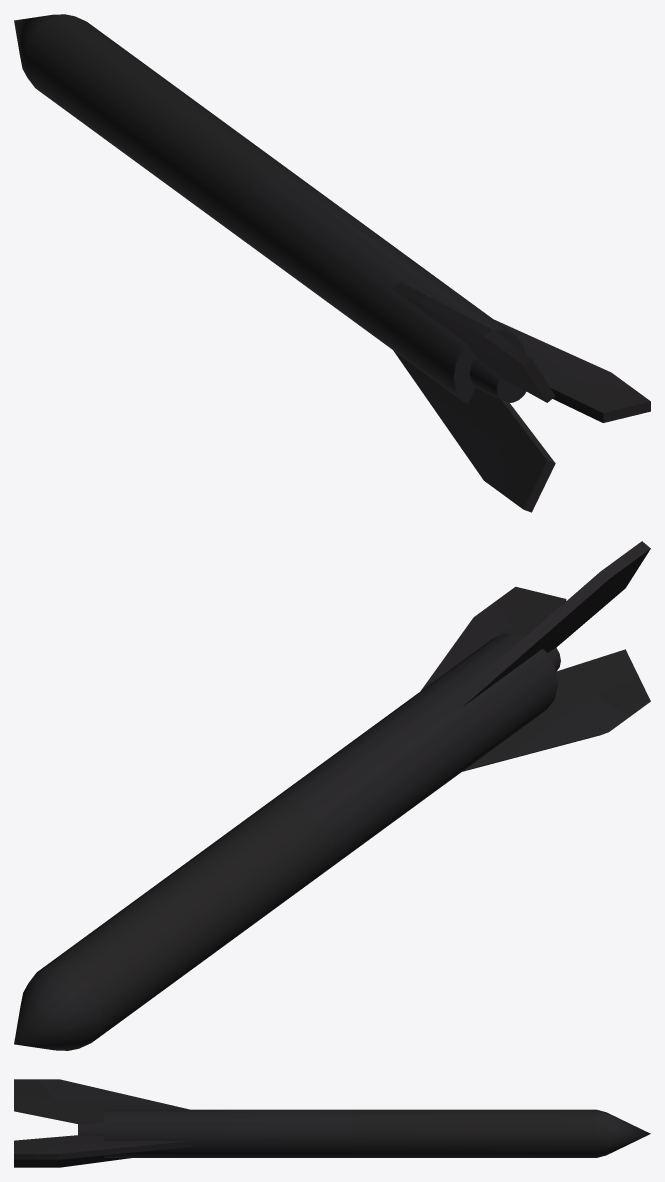
The model's file is apfsds_bullet_m774.fbx.
The picture shows the model from 3 angles, top to bottom: view 1: azimuth 30°, elevation 25°; view 2: azimuth 150°, elevation 25°; view 3: azimuth 270°, elevation 25°; orthographic projection. The views are drawn at different scales.
Visible parts, largest first — view 1: Cylinder; view 2: Cylinder; view 3: Cylinder.
Boxes of the visible parts, x1=… form: Cylinder: x1=14, y1=14, x2=650, y2=512; Cylinder: x1=14, y1=541, x2=650, y2=1050; Cylinder: x1=14, y1=1079, x2=650, y2=1167.
Bounding box in the file's own units: 66.11 × 76.34 × 498.
